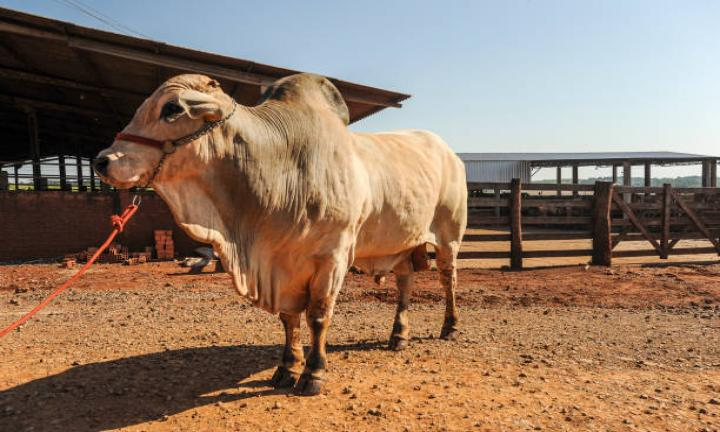Brahman: (95, 73, 466, 394)
